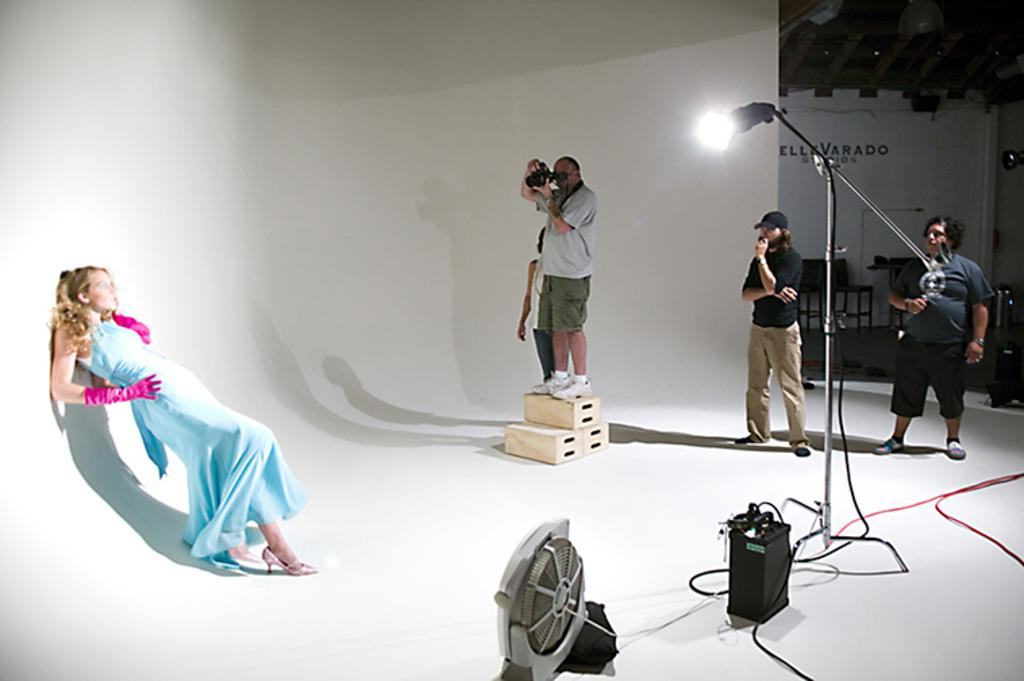face: (86, 272, 116, 309), (926, 224, 947, 252), (555, 163, 575, 191), (761, 222, 782, 245)
